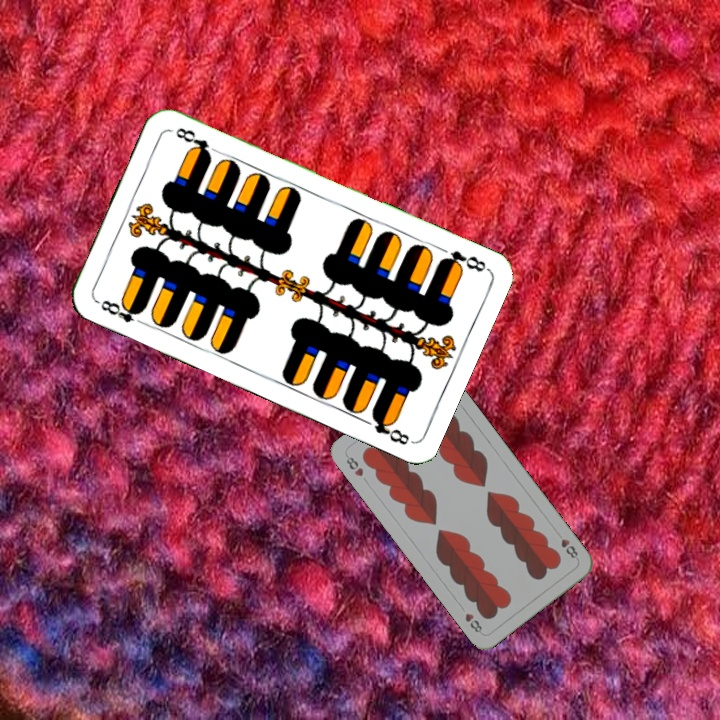E8: (92, 295, 148, 328), (435, 246, 490, 275)
H8: (552, 528, 581, 562), (342, 451, 366, 479)
